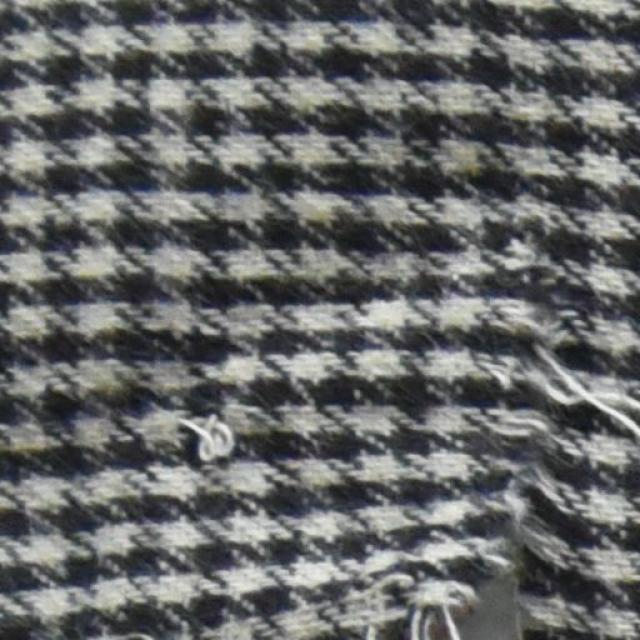Hole: (462, 574, 533, 639)
Snag: (386, 240, 639, 639), (171, 401, 245, 478)
